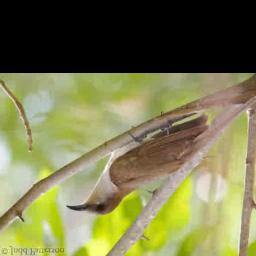Cuckoo: (63, 112, 209, 216)
